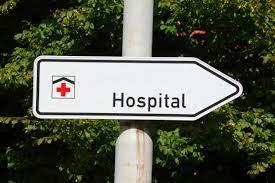Hospital: (45, 59, 209, 116)
